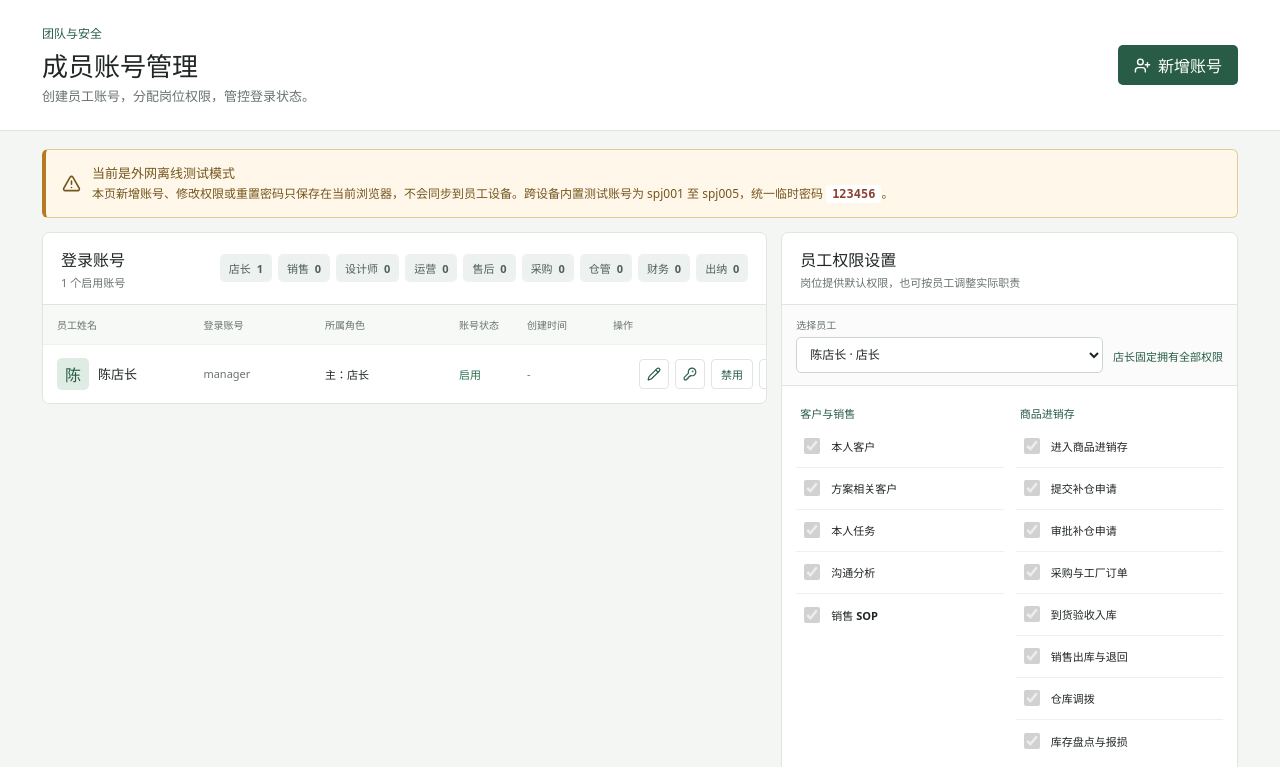
TeamAccessPage › supports multiple positions for one employee
Click the button "新增账号": (1178, 65) [1118,45,1238,85]
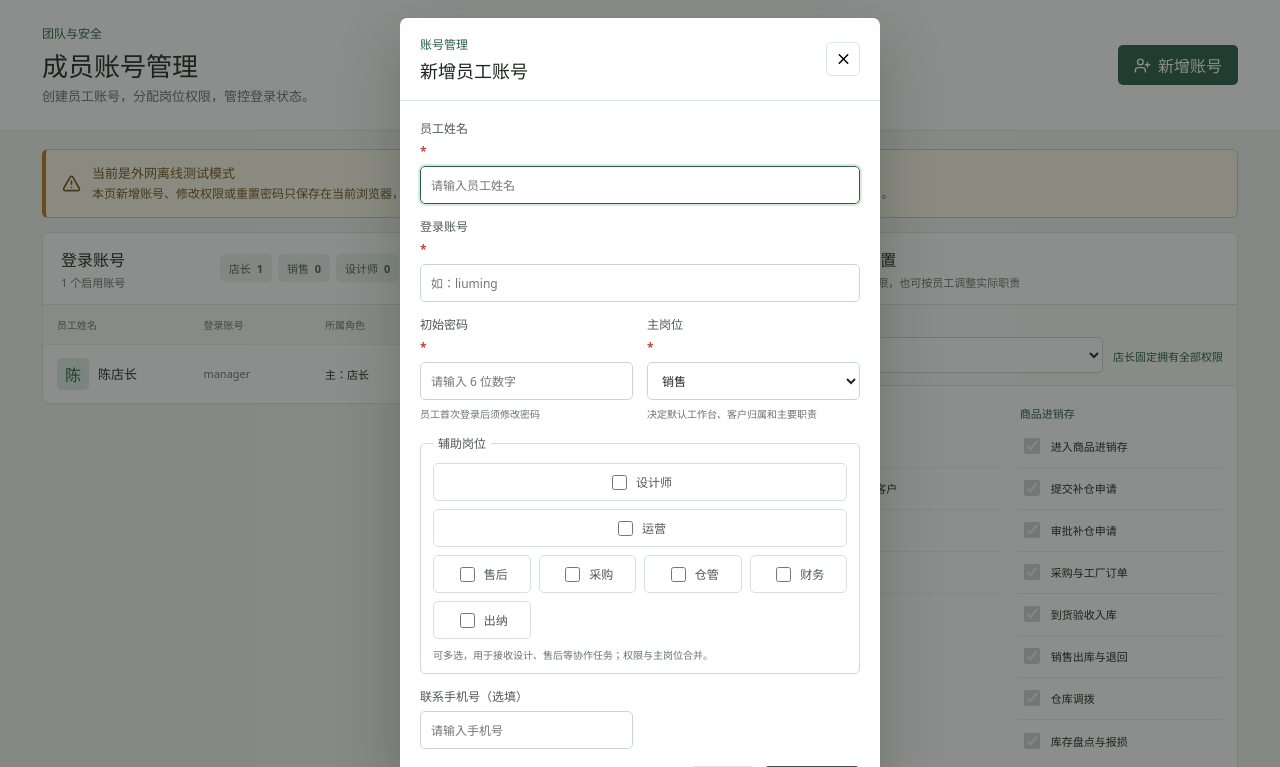
Check: the dropdown labelled "主岗位 * 决定默认工作台、客户归属和主要职责" shows "销售", box [647,362,860,400]
Check: the checkbox labelled "设计师" is shown, box [612,474,627,490]
Check: the checkbox labelled "售后" is shown, box [460,566,475,582]
